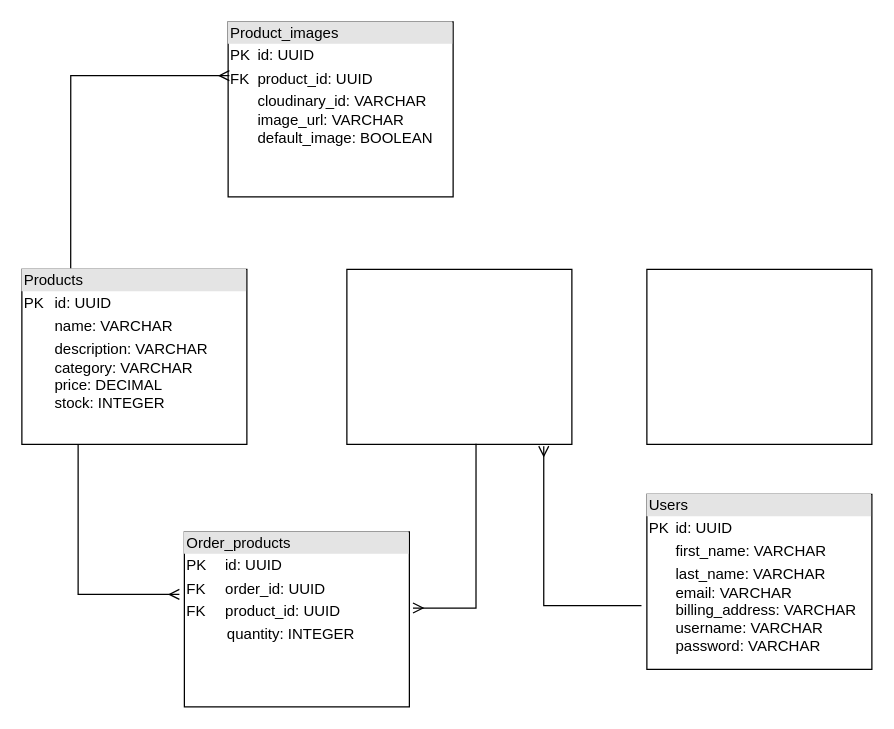
This 894x729 diagram has some shape labels left out. Each missing label, with the centre of its shape:
Admin PK id: UUID username: VARCHAR password: VARCHAR: point 759,356
Orders PK id: UUID FK user_id: UUID status: VARCHAR order_date: DATE: point 459,356
